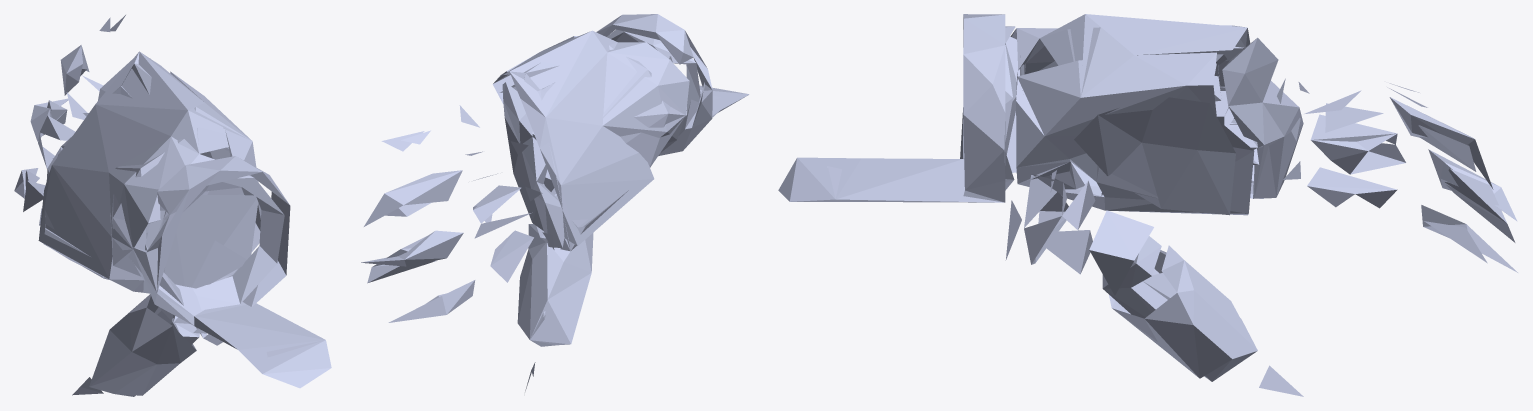
File: agvl.SLDASM_ccrc13_visual_vis_1.dae
3 views of the same model, side by side, from view 1: azimuth 30°, elevation 25°; view 2: azimuth 150°, elevation 25°; view 3: azimuth 270°, elevation 25° (orthographic). The views are drawn at different scales.
Parts seen in each view (by area): view 1: node; view 2: node; view 3: node.
Boxes of the visible parts, x1=… form: node: x1=14, y1=15, x2=331, y2=396; node: x1=361, y1=14, x2=749, y2=391; node: x1=778, y1=14, x2=1517, y2=396.
Size of the model in its own units: 0.0905 by 0.1652 by 0.2824.
